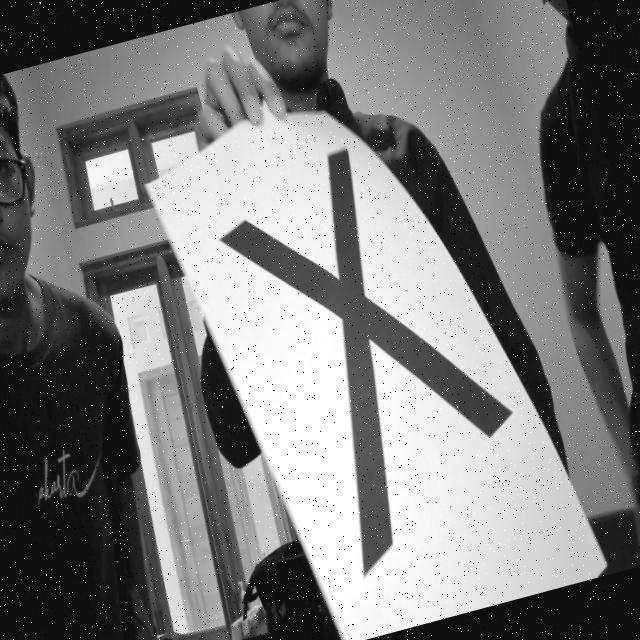x: (194, 100, 558, 610)
